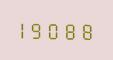eight: (63, 20, 77, 40), (78, 20, 92, 40)
nine: (33, 19, 47, 39)
one: (18, 19, 32, 39)
zero: (48, 19, 62, 40)
